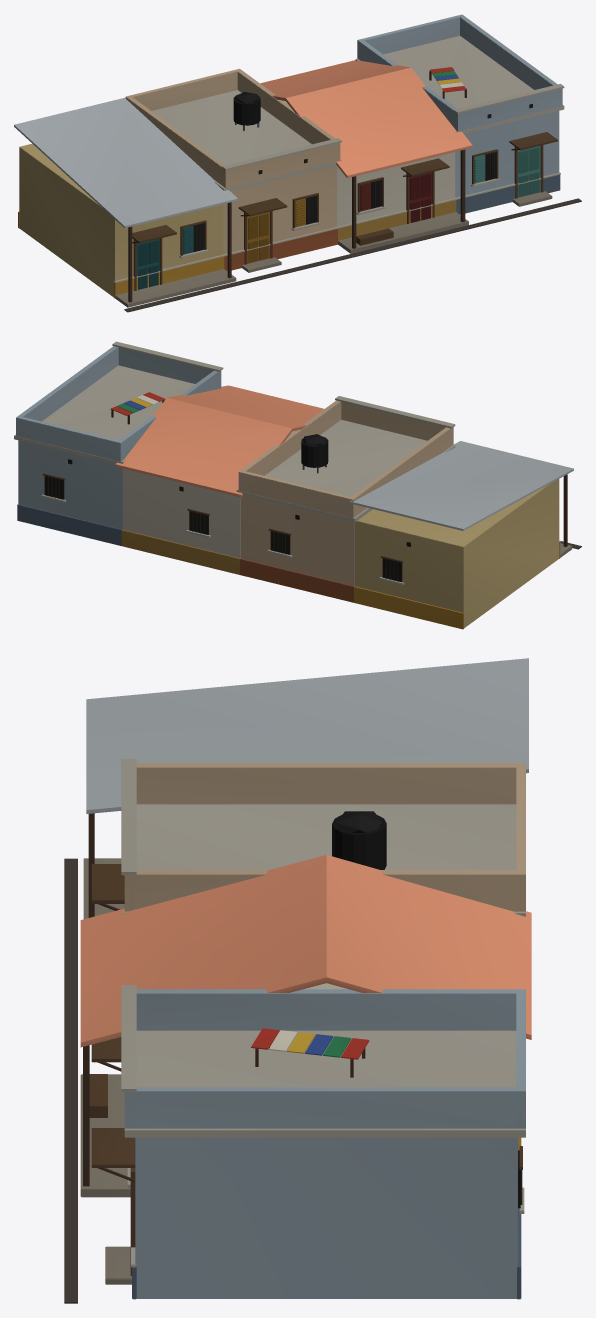
File: abadi_row_b.glb
3 renders of one model, top to bottom at view 1: azimuth 30°, elevation 25°; view 2: azimuth 150°, elevation 25°; view 3: azimuth 270°, elevation 25°, orthographic. The views are drawn at different scales.
Visible parts, largest first — view 1: hb_main, hb_tin, hb_terracotta; view 2: hb_main, hb_terracotta, hb_tin; view 3: hb_main, hb_terracotta, hb_tin.
Part boxes in pixels (box(x1,y1,x2,y2)): hb_main: box(18, 14, 581, 312); hb_tin: box(14, 97, 238, 227); hb_terracotta: box(260, 60, 472, 178); hb_main: box(14, 341, 581, 629); hb_terracotta: box(115, 385, 323, 497); hb_tin: box(349, 441, 573, 530); hb_main: box(64, 758, 525, 1303); hb_terracotta: box(80, 855, 531, 1047); hb_tin: box(86, 658, 528, 813).
Bounding box in the file's own units: 19.2 × 4.73 × 8.55.
